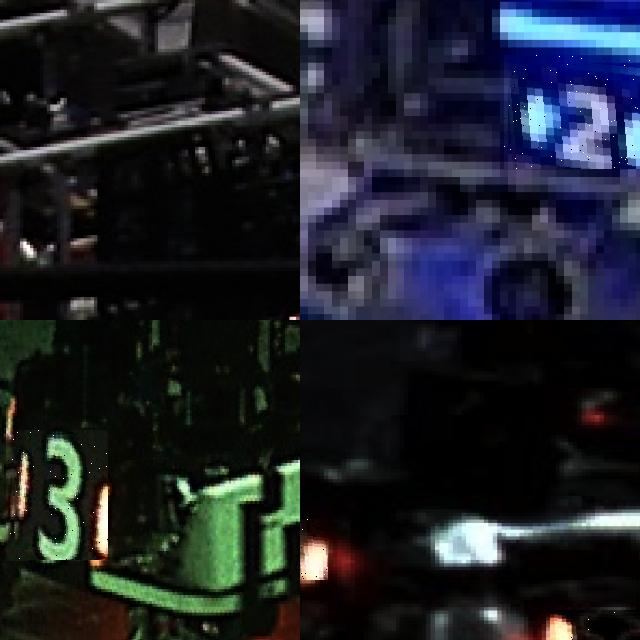B2: (504, 54, 640, 169)
R3: (6, 430, 108, 562)
Rs: (550, 610, 640, 640), (300, 519, 328, 580)
